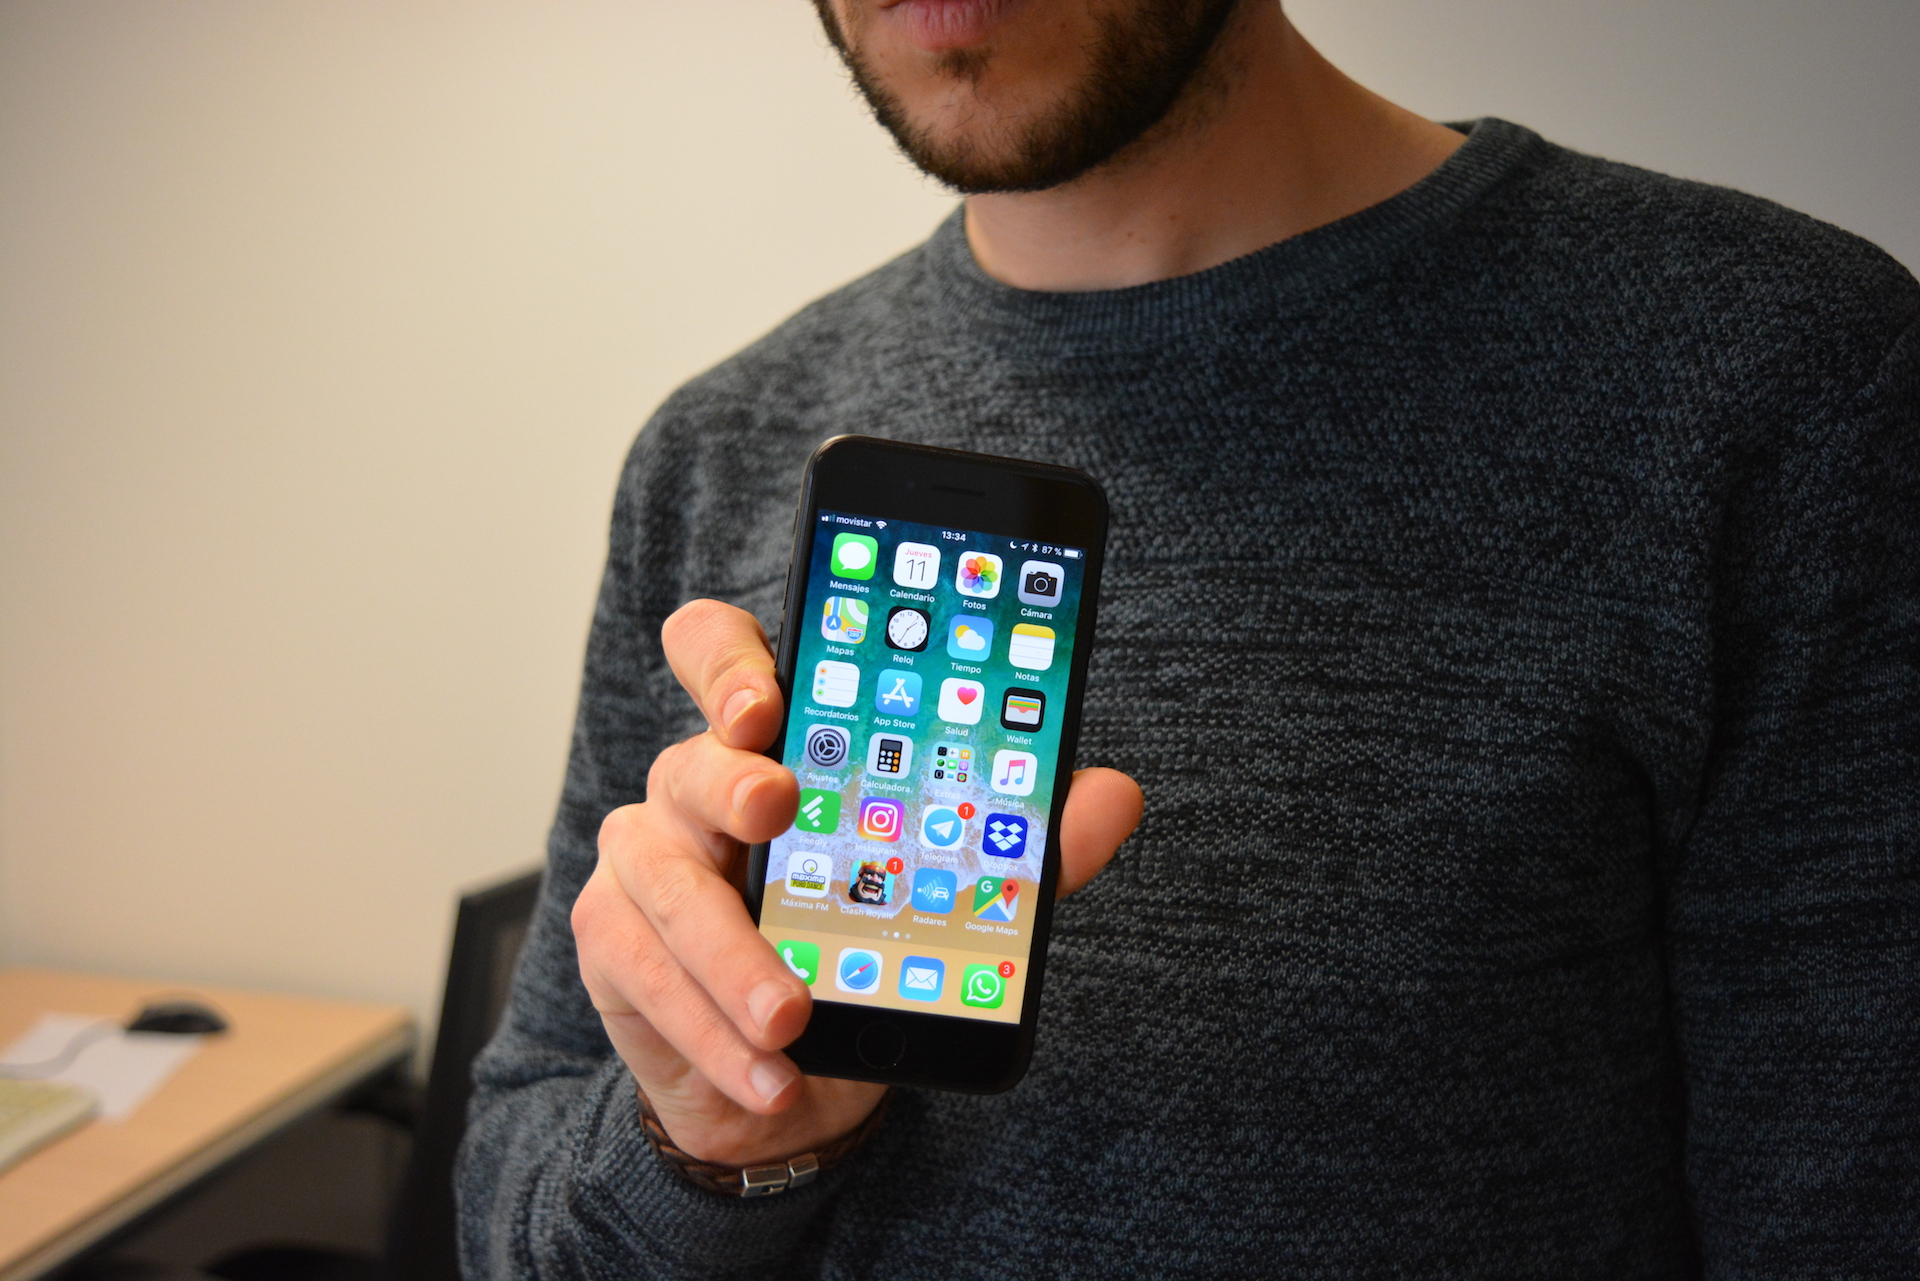smartphone: (728, 432, 1112, 1099)
